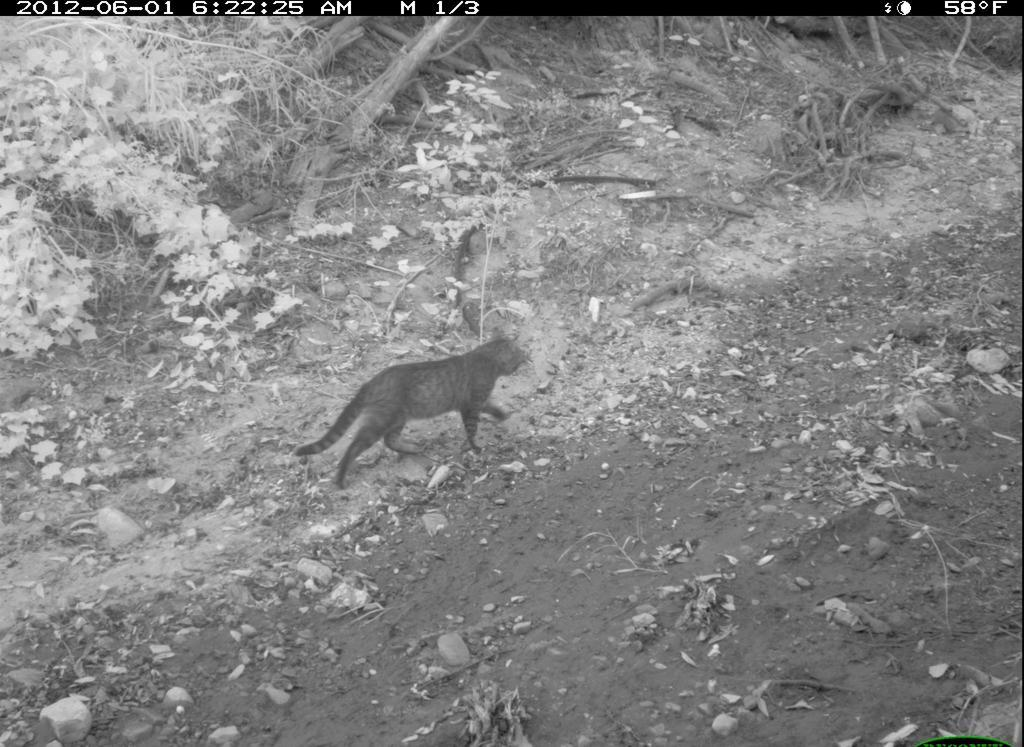cat: (296, 323, 534, 496)
